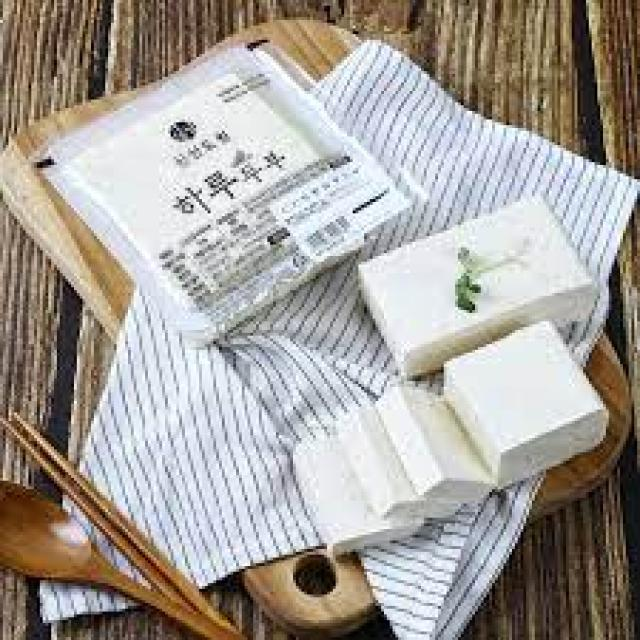tofu: (62, 41, 373, 339), (361, 192, 612, 523)
